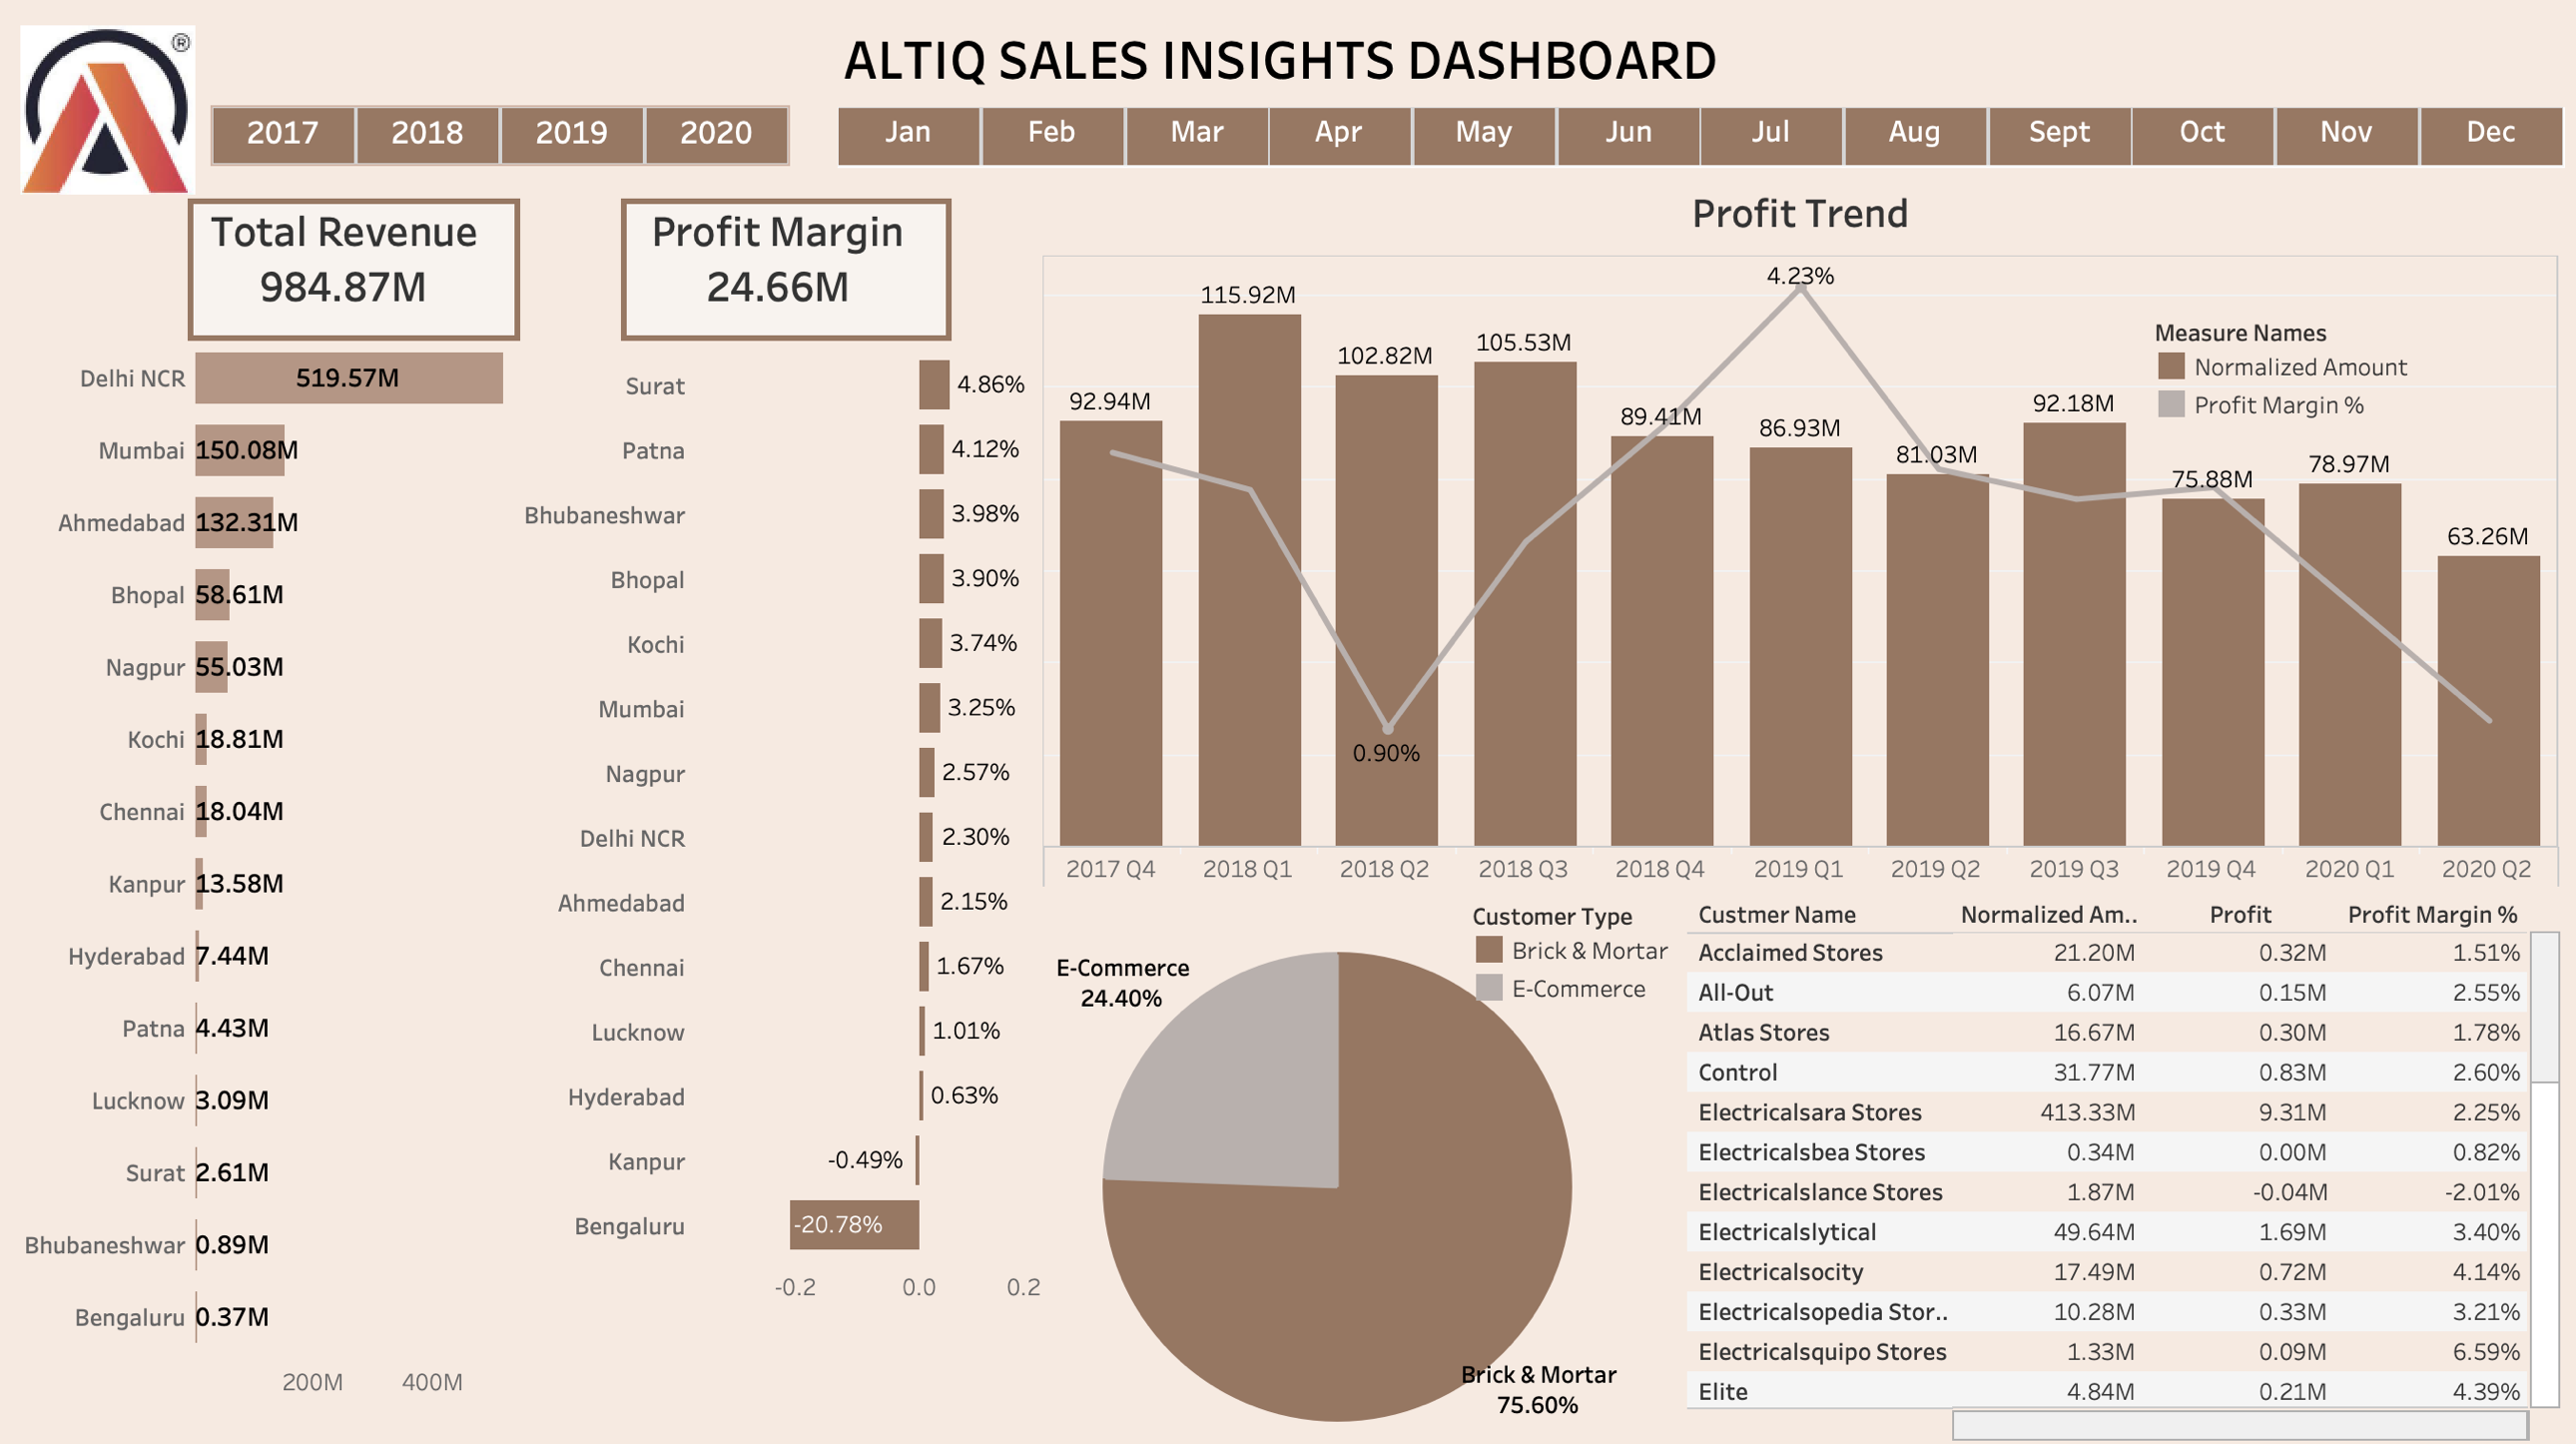

The page's visual inventory and layout, read from the dashboard file:
{"tool":"tableau","page":{"name":"Dashboard 1 - Profit Analysis","canvas":[1366,768],"ordinal":1},"visuals":[{"type":"blank","box":[13,13,1346,750]},{"type":"image","param":"/Users/saipraneeth/Downloads/Atliq Company Logo.jpeg","box":[16,16,92,118]},{"type":"text","box":[385,19,589,28]},{"type":"worksheet","title":"Year","mark":"Automatic","rows":["Calculation_518547315659513857"],"cols":["cy_date"],"box":[116,58,305,32]},{"type":"worksheet","title":"Month - dup","mark":"Bar","rows":["Calculation_518547315665764357"],"cols":["cy_date"],"box":[446,59,908,31]},{"type":"worksheet","title":"Profit Trend","mark":"Bar","rows":["Calculation_4021995978979430400","Calculation_191473390399770624"],"cols":["cy_date"],"box":[554,94,798,376]},{"type":"worksheet","title":"Revenue","mark":"Automatic","box":[104,107,175,75]},{"type":"worksheet","title":"Profit","mark":"Automatic","box":[332,107,174,75]},{"type":"legend","title":"Profit Trend","param":"[federated.0llrhlt0nc8dz313dxoun1hznkz5].[:Measure Names]","box":[1138,167,140,58]},{"type":"worksheet","title":"Revneue by Market","mark":"Automatic","rows":["markets_name"],"cols":["Calculation_4021995978979430400"],"box":[16,182,262,562]},{"type":"worksheet","title":"Profit Margin vs Market name","mark":"Automatic","rows":["markets_name"],"cols":["Calculation_191473390399770624"],"box":[271,188,284,560]},{"type":"worksheet","title":"Customer Table","mark":"Automatic","rows":["custmer_name"],"box":[893,473,460,288]},{"type":"legend","title":"E-commerce","param":"[federated.0llrhlt0nc8dz313dxoun1hznkz5].[none:customer_type:nk]","box":[779,474,115,58]},{"type":"worksheet","title":"E-commerce","mark":"Pie","box":[561,494,296,266]}]}

Visuals, with their boxes in screenshot pixels (x1, y1, x2, y2), scaled from the page's 1366x768 canvas onto the 2576x1444 screenshot:
blank: 25:24:2563:1435
image: 30:30:204:252
text: 726:36:1837:88
"Year" worksheet: 219:109:794:169
"Month - dup" worksheet (Bar marks): 841:111:2553:169
"Profit Trend" worksheet (Bar marks): 1044:177:2550:884
"Revenue" worksheet: 196:201:526:343
"Profit" worksheet: 626:201:955:343
"Profit Trend" legend: 2146:314:2410:423
"Revneue by Market" worksheet: 30:343:524:1399
"Profit Margin vs Market name" worksheet: 511:354:1046:1406
"Customer Table" worksheet: 1684:890:2551:1431
"E-commerce" legend: 1469:891:1686:1001
"E-commerce" worksheet (Pie marks): 1058:929:1616:1429
